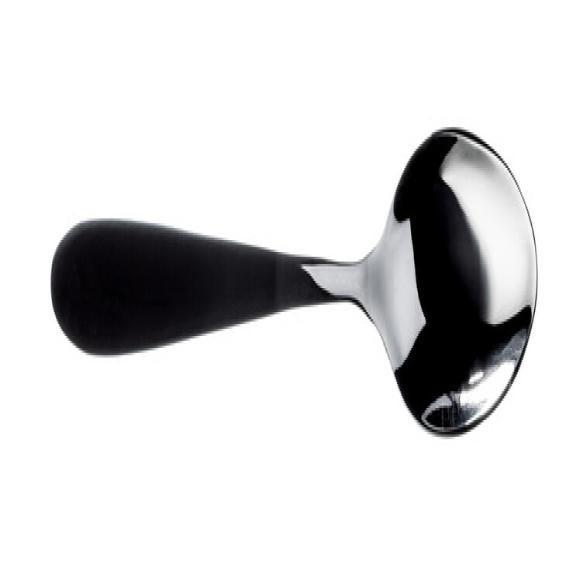Plastik: (52, 130, 537, 434)
